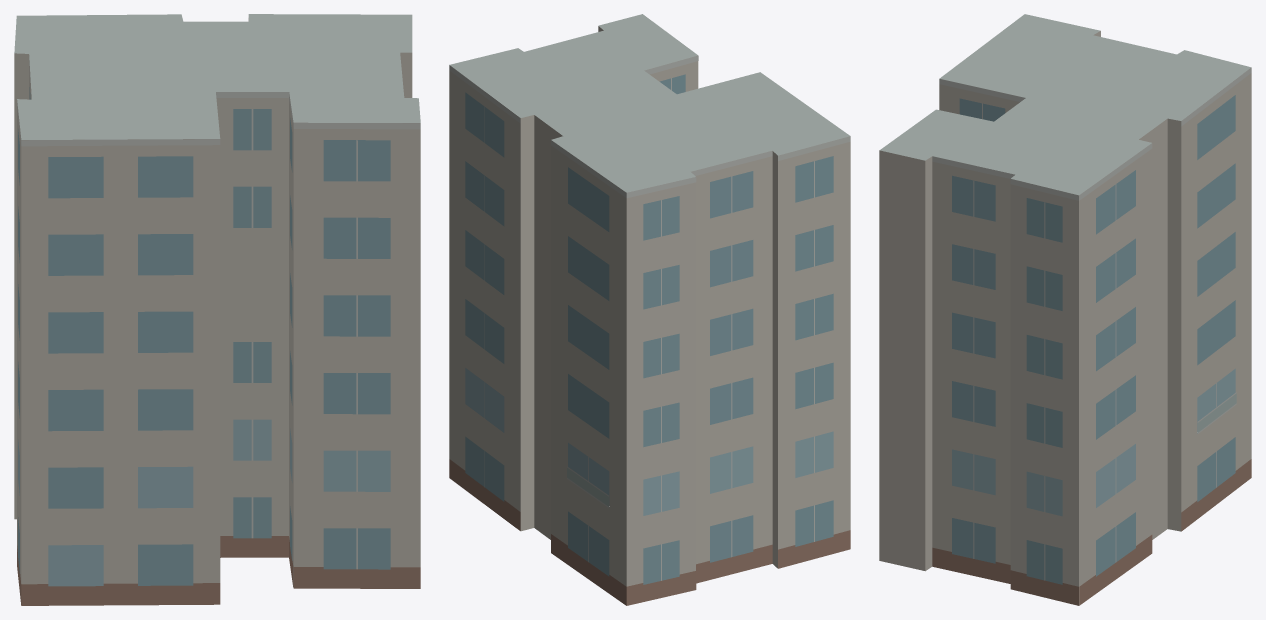
The model's file is survey-upis-33043323.glb.
3 renders of one model, left to right at view 1: azimuth 30°, elevation 25°; view 2: azimuth 150°, elevation 25°; view 3: azimuth 270°, elevation 25°, orthographic. The views are drawn at different scales.
Parts seen in each view (by area): view 1: survey-upis-33043323.tmp; view 2: survey-upis-33043323.tmp; view 3: survey-upis-33043323.tmp.
Part boxes in pixels (box(x1,y1,x2,y2)): survey-upis-33043323.tmp: box(14, 14, 420, 605); survey-upis-33043323.tmp: box(449, 14, 850, 605); survey-upis-33043323.tmp: box(879, 14, 1251, 605).
Bounding box in the file's own units: 17.35 × 18.3 × 15.04.
